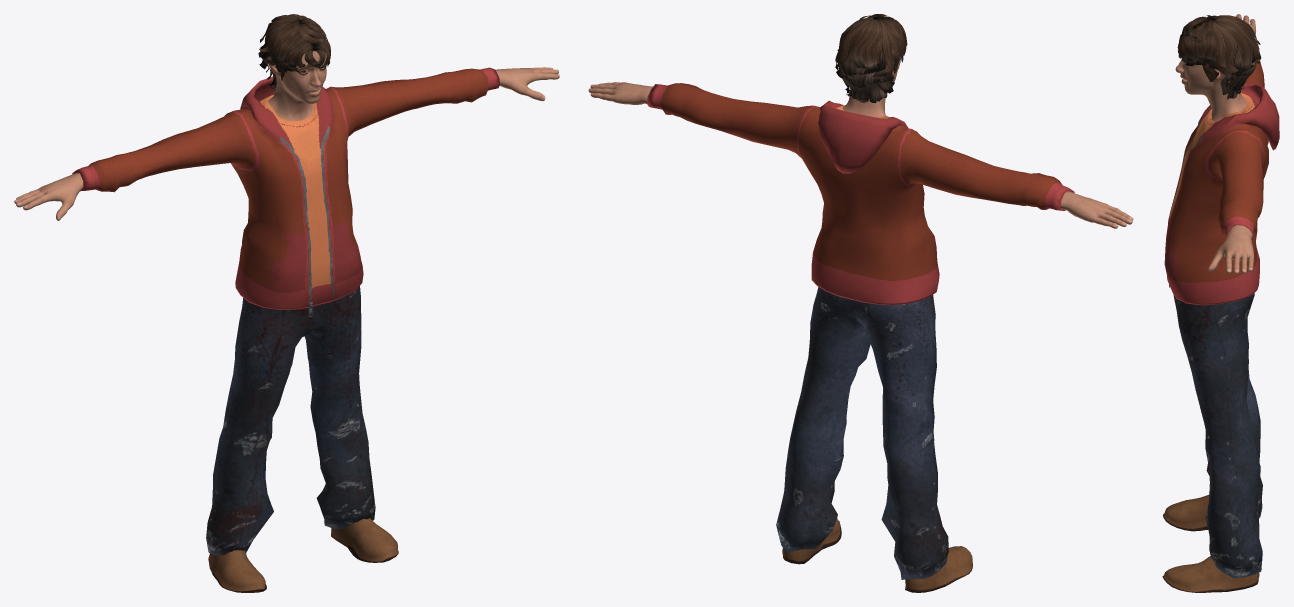
Rendered from confused.obj.
3 renders of one model, left to right at view 1: azimuth 30°, elevation 25°; view 2: azimuth 150°, elevation 25°; view 3: azimuth 270°, elevation 25°, orthographic.
Visible parts, largest first — view 1: Tops, Bottoms, BodyParts, Shoes, Hair; view 2: Tops, Bottoms, Hair, BodyParts, Shoes; view 3: Tops, Bottoms, Hair, BodyParts, Shoes.
Part boxes in pixels (x1,y1,x2,y2): Tops: (72,67,499,316); Bottoms: (206,286,375,555); BodyParts: (14,50,559,220); Shoes: (208,489,398,592); Hair: (258,14,330,89); Tops: (647,83,1074,305); Bottoms: (776,287,948,579); Hair: (835,14,907,103); BodyParts: (588,60,1133,228); Shoes: (782,509,972,592); Tops: (1164,58,1279,305); Bottoms: (1173,293,1262,578); Hair: (1177,15,1261,99); BodyParts: (1175,14,1255,274); Shoes: (1162,495,1259,592).
Size of the model in its own units: 187 by 180 by 35.54.
5 materials, 5 textured.
